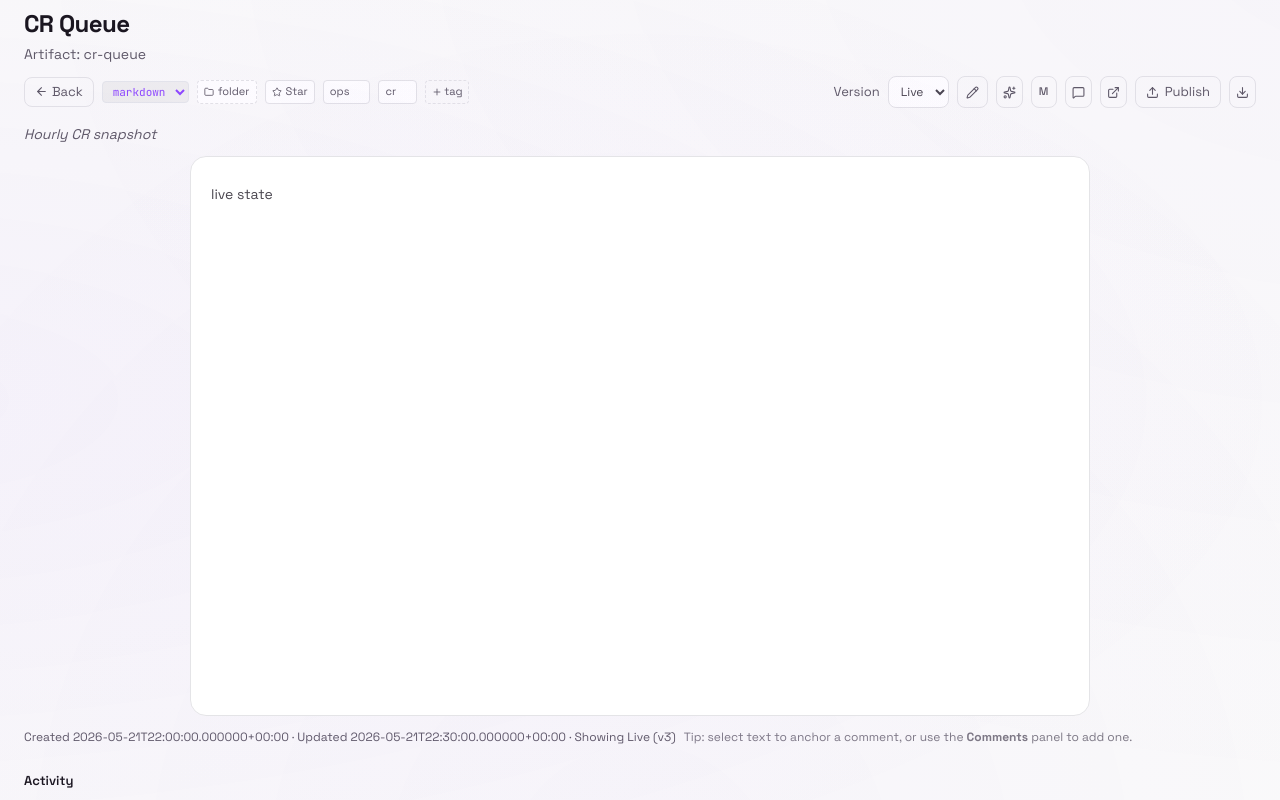
Test: ArtifactDetailPage › renders historical version via versionQuery when non-Live selected
Expected: the button "CR Queue" is shown, [24, 8, 151, 40]
Select "v2" in the dropdown named "Version" at coordinates (918, 92), box [888, 76, 949, 108]
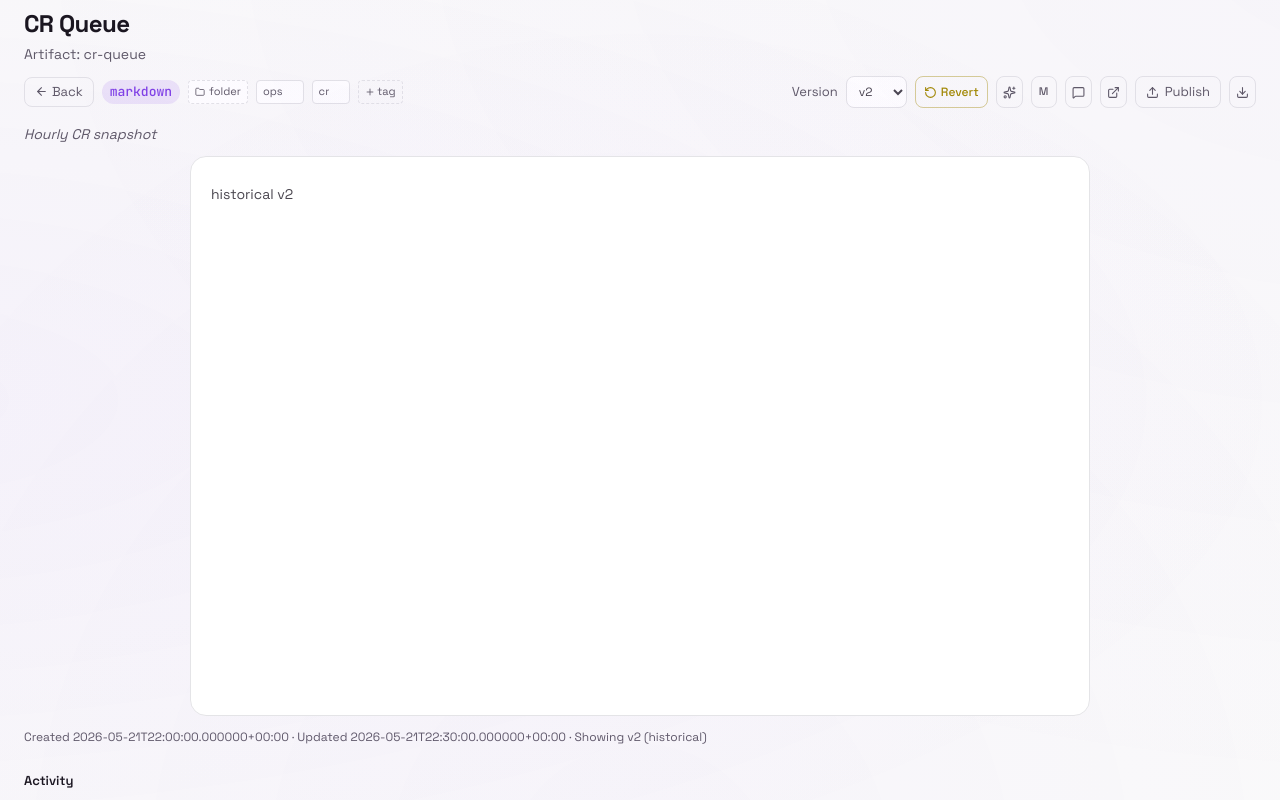
Expected: the text "historical v2" is shown, [211, 185, 293, 203]
Expected: the button titled "Revert to v2" is shown, [915, 76, 988, 108]
